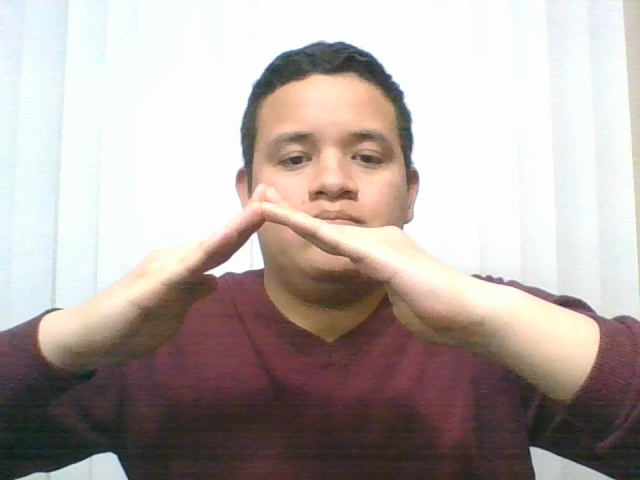House: (27, 161, 536, 417)
